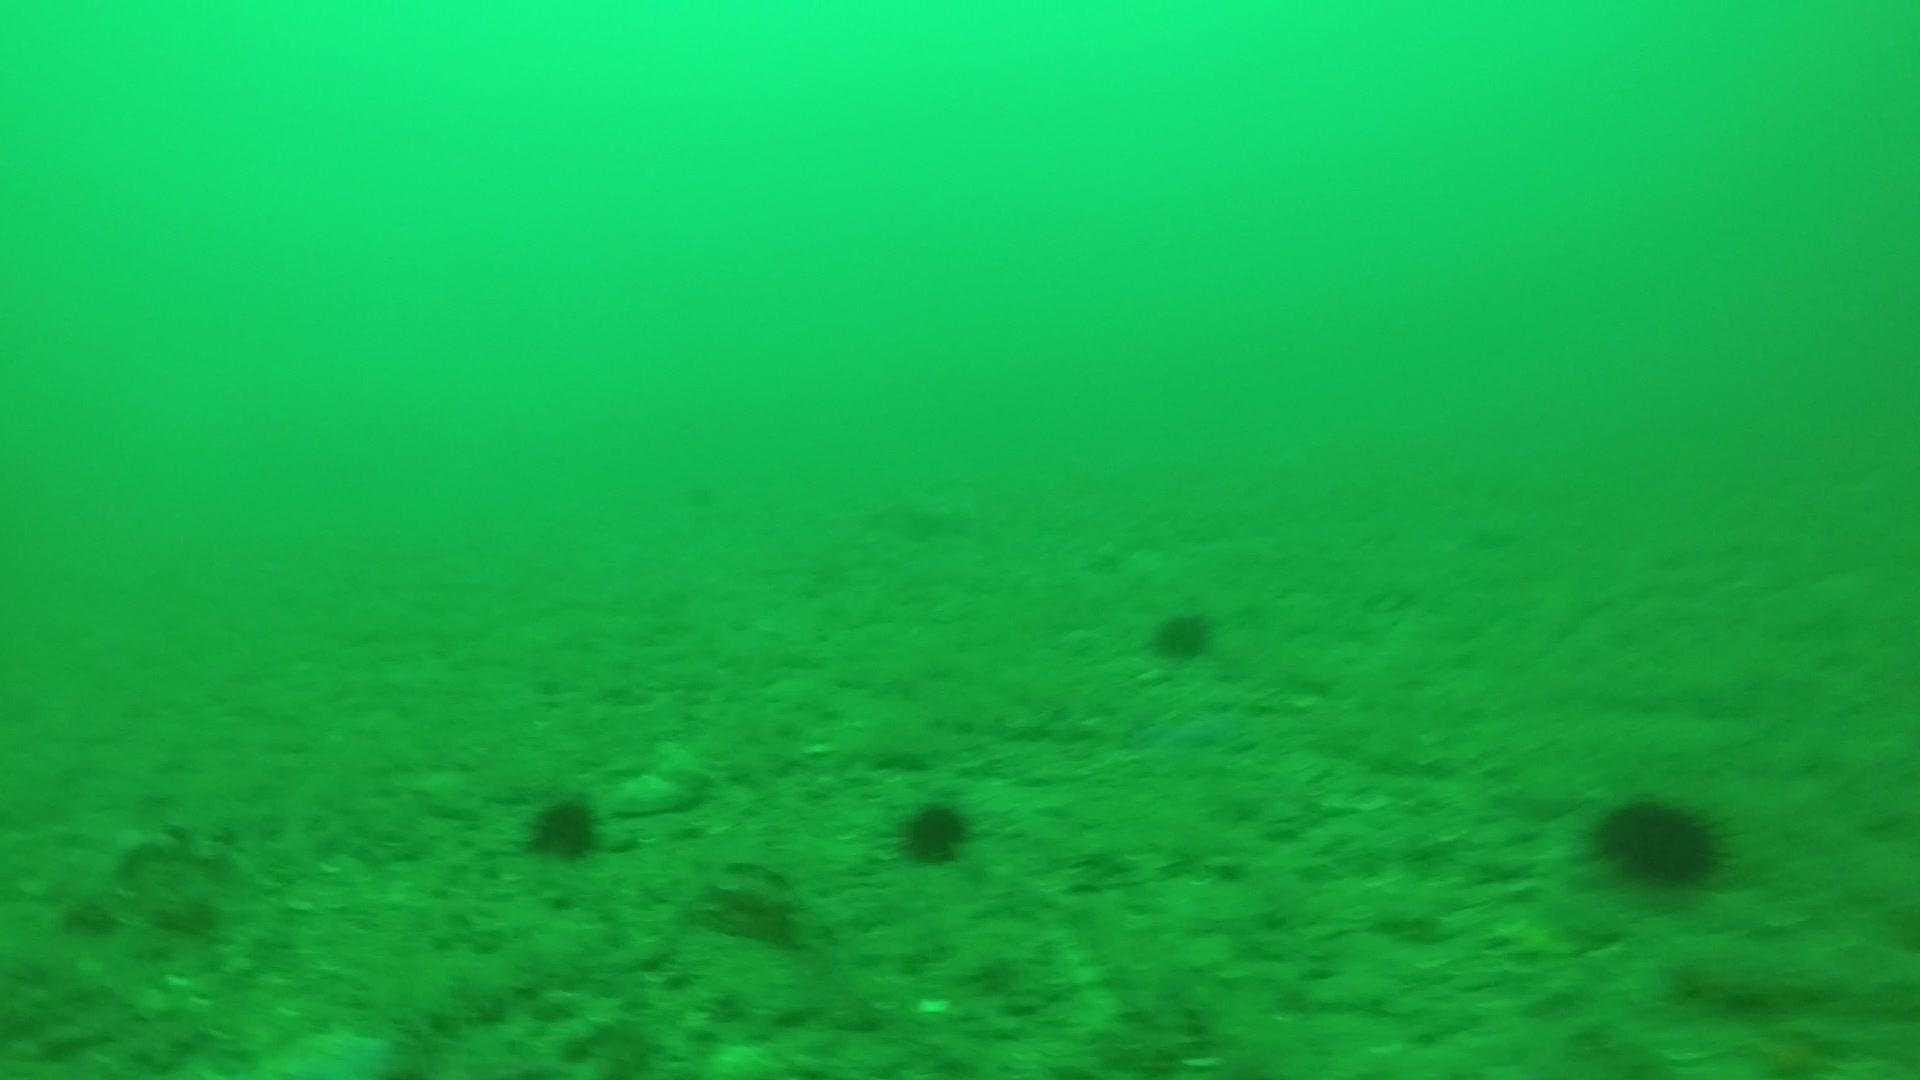echinus: (1586, 786, 1731, 894), (520, 787, 611, 866), (890, 791, 978, 870), (1145, 600, 1220, 666)
starfish: (256, 1019, 400, 1076), (1131, 699, 1262, 757)
